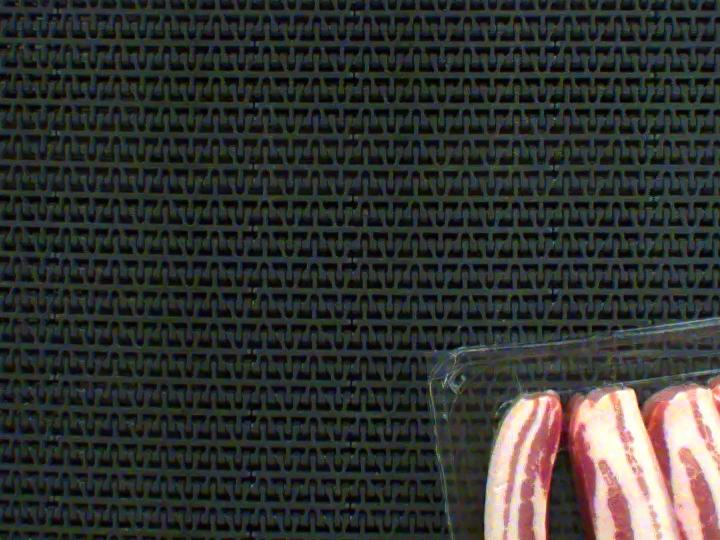loose-meat: (476, 393, 578, 540)
